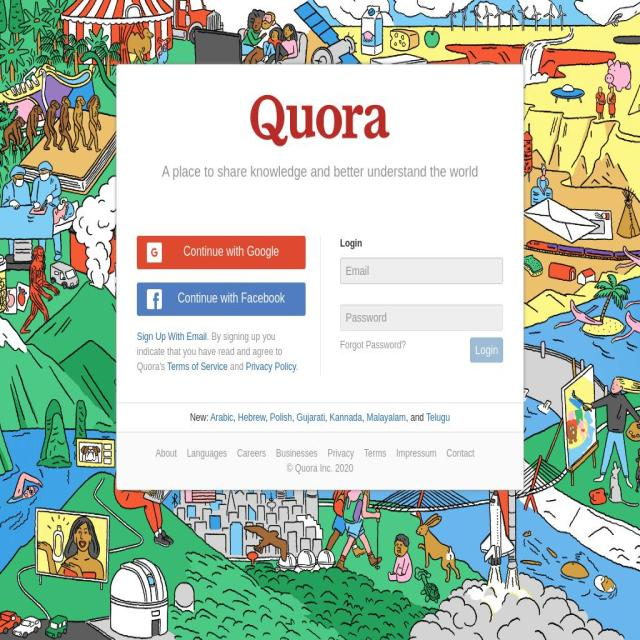button: (137, 235, 306, 269), (137, 282, 306, 316)
field: (340, 303, 503, 331), (340, 257, 503, 284), (470, 337, 503, 362)
heading: (117, 160, 523, 182)
image: (0, 0, 640, 640)
link: (137, 329, 207, 343), (340, 337, 406, 351), (167, 359, 227, 373), (246, 359, 296, 373), (276, 446, 318, 459), (186, 446, 227, 459), (366, 410, 406, 423), (396, 446, 436, 459), (330, 410, 362, 423), (296, 410, 325, 423), (237, 446, 266, 459), (446, 446, 475, 459), (238, 410, 266, 423), (327, 446, 354, 459), (210, 410, 234, 423), (426, 410, 450, 423), (269, 410, 292, 423), (155, 446, 177, 459), (364, 446, 386, 459)
text: (250, 85, 390, 154), (137, 329, 282, 373), (340, 235, 503, 251), (178, 290, 286, 305), (183, 244, 279, 258), (286, 460, 354, 476), (189, 410, 210, 423), (406, 410, 426, 423), (228, 359, 246, 373), (206, 329, 212, 343), (233, 410, 239, 423), (265, 410, 270, 423), (292, 410, 297, 423), (325, 410, 330, 423), (362, 410, 367, 423), (296, 359, 298, 373)
